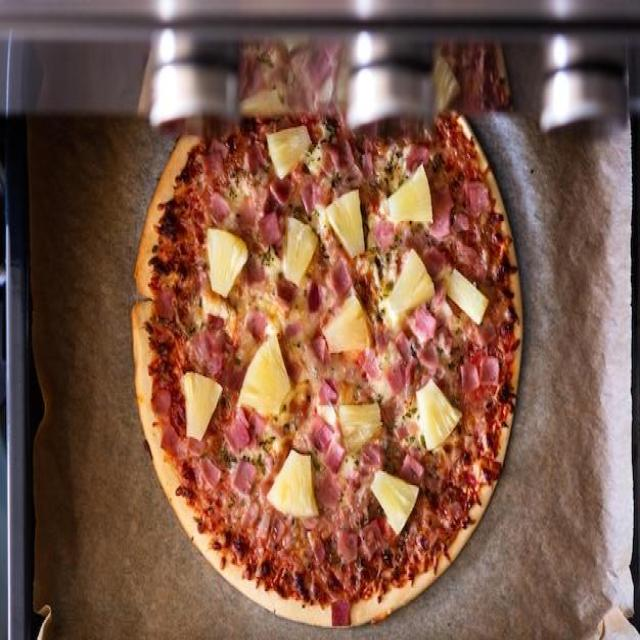pizza: (132, 122, 522, 630)
